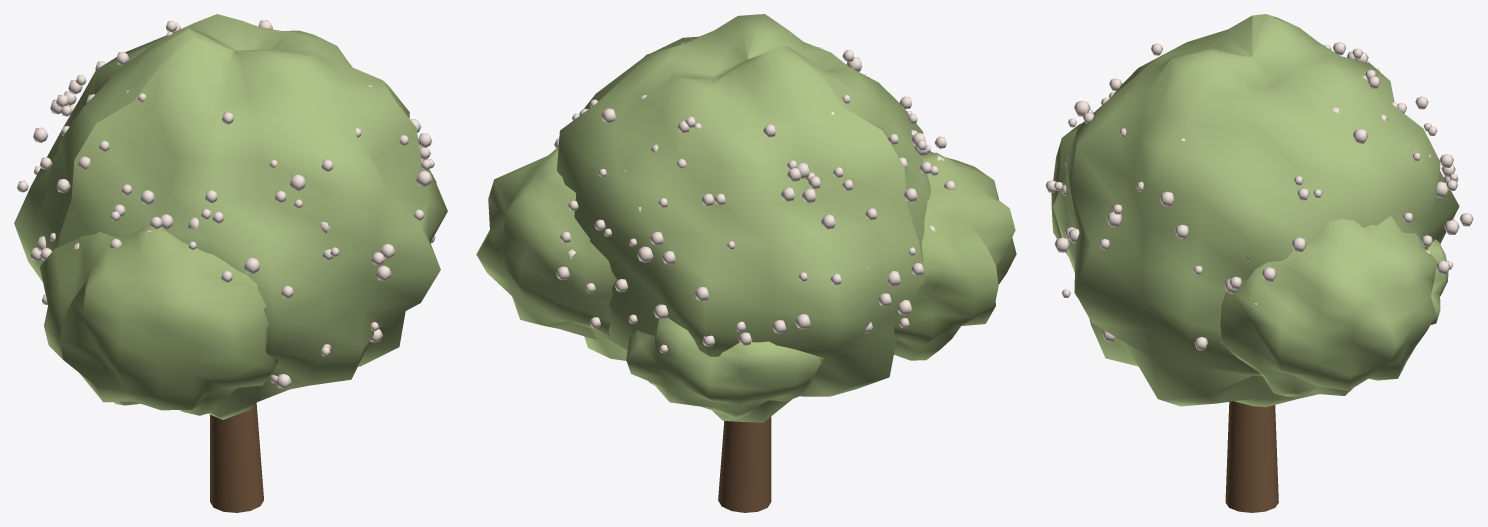
Rendered from mezalmacska-tavasz.glb.
The picture shows the model from 3 angles, left to right: view 1: azimuth 30°, elevation 25°; view 2: azimuth 150°, elevation 25°; view 3: azimuth 270°, elevation 25°; orthographic projection.
Visible parts, largest first — view 1: korona-1, korona-2, virag, torzs; view 2: korona-1, korona-3, korona-2, korona-5, virag, torzs; view 3: korona-1, korona-3, virag, torzs, korona-2, korona-5.
Part boxes in pixels (bbox=[...]): korona-1: bbox=[14, 14, 447, 419]; korona-2: bbox=[40, 226, 278, 415]; virag: bbox=[17, 20, 435, 388]; torzs: bbox=[210, 403, 263, 512]; korona-1: bbox=[557, 14, 930, 422]; korona-3: bbox=[476, 147, 616, 339]; korona-2: bbox=[893, 151, 1016, 360]; korona-5: bbox=[626, 317, 824, 418]; virag: bbox=[554, 42, 955, 353]; torzs: bbox=[718, 416, 771, 512]; korona-1: bbox=[1053, 14, 1459, 406]; korona-3: bbox=[1220, 216, 1436, 396]; virag: bbox=[1045, 42, 1473, 350]; torzs: bbox=[1225, 401, 1278, 512]; korona-2: bbox=[1051, 124, 1080, 256]; korona-5: bbox=[1427, 239, 1448, 324].
Bounding box in the file's own units: 3.86 × 4.08 × 3.37.
